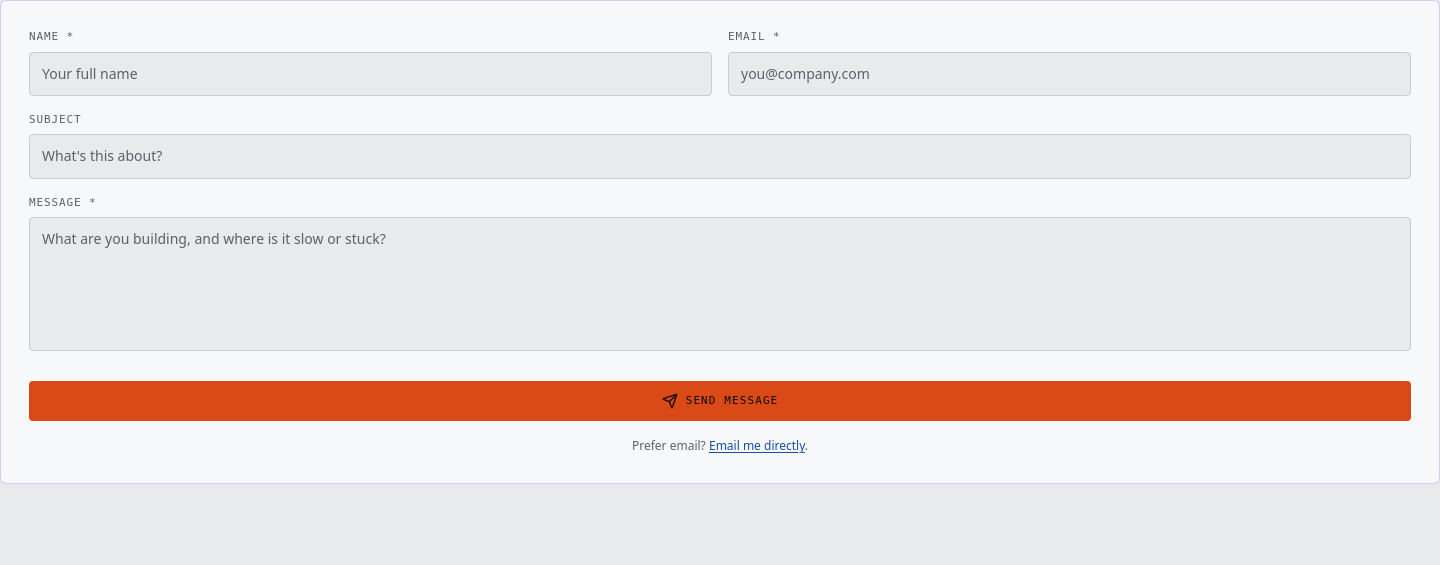
Test case: contact form › never fakes success for a fast valid submission when the service is not configured
In the field labelled "Name *": [370, 74] box [29,52,712,96], type "Recruiter"
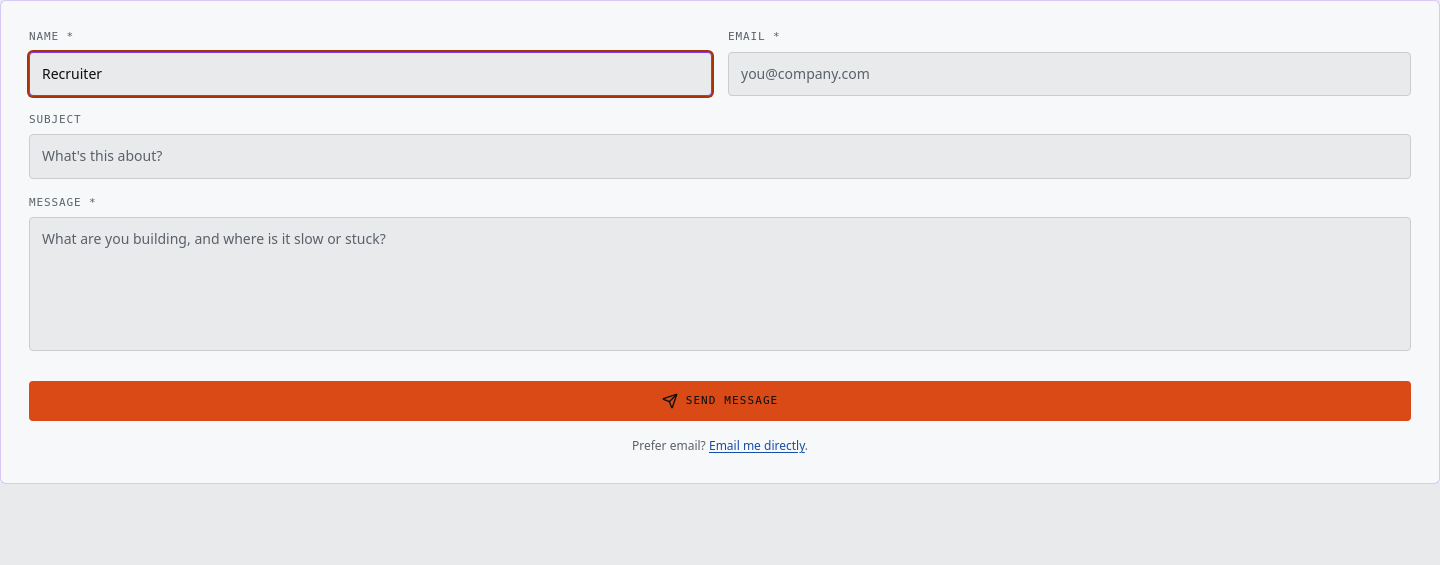
In the field labelled "Email *": [1070, 74] box [728,52,1411,96], type "hiring@example.com"
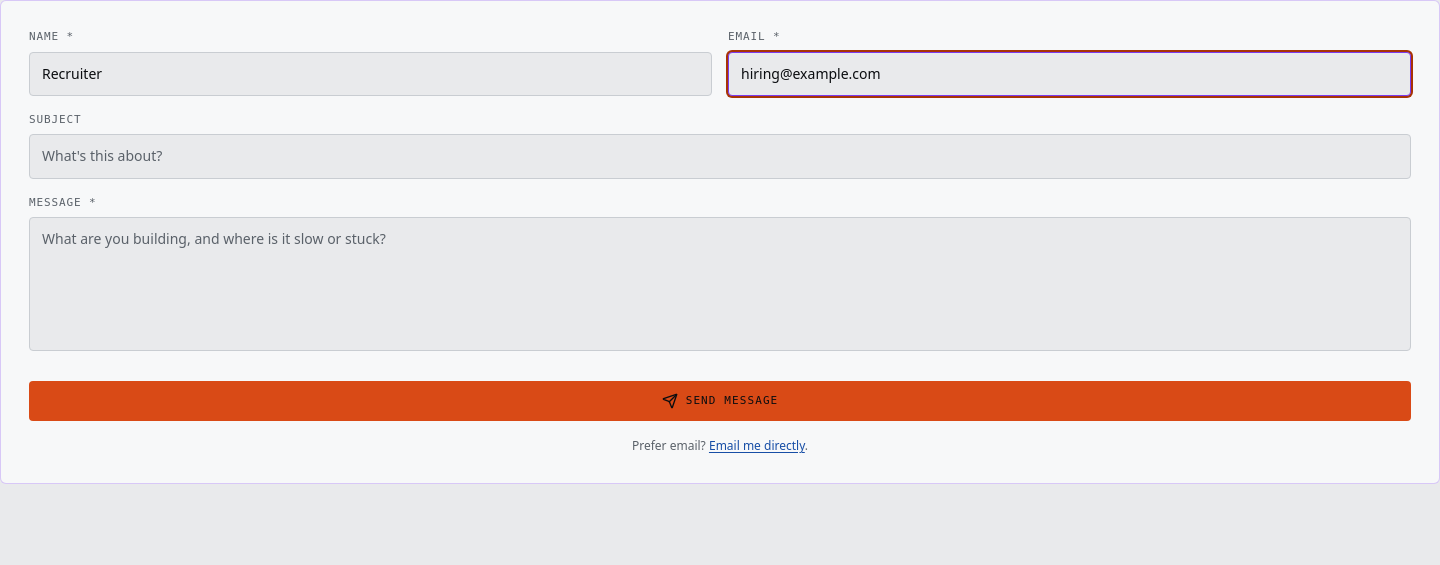
In the text box labelled "Message *": [720, 284] box [29,217,1411,351], type "We would like to talk to you about an HPC role."
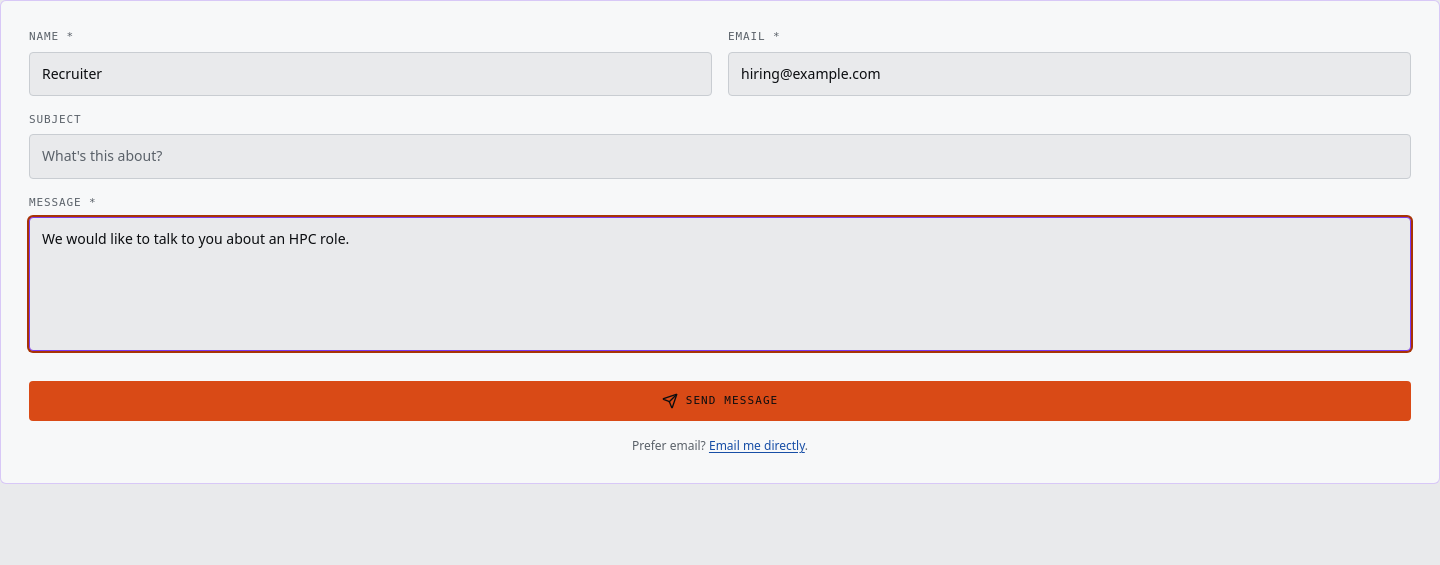
Click the button "Send message": [720, 401] box [29,381,1411,421]
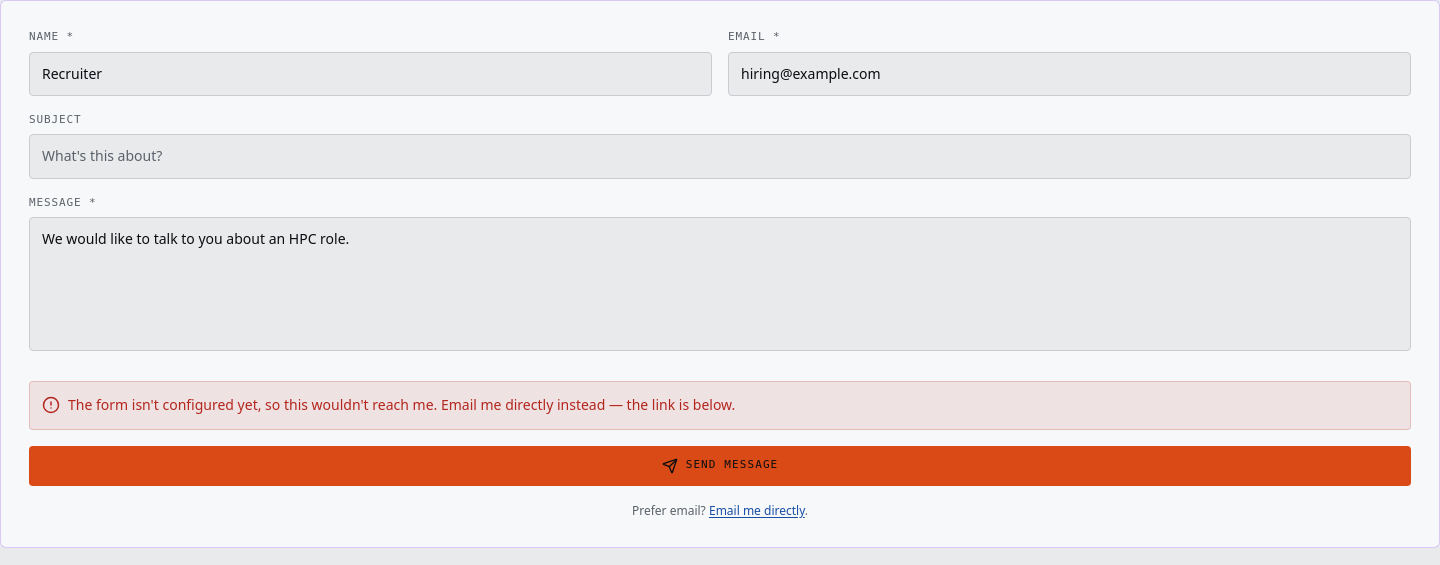
Expected: the message shows "Email me directly", [68,395,735,414]
